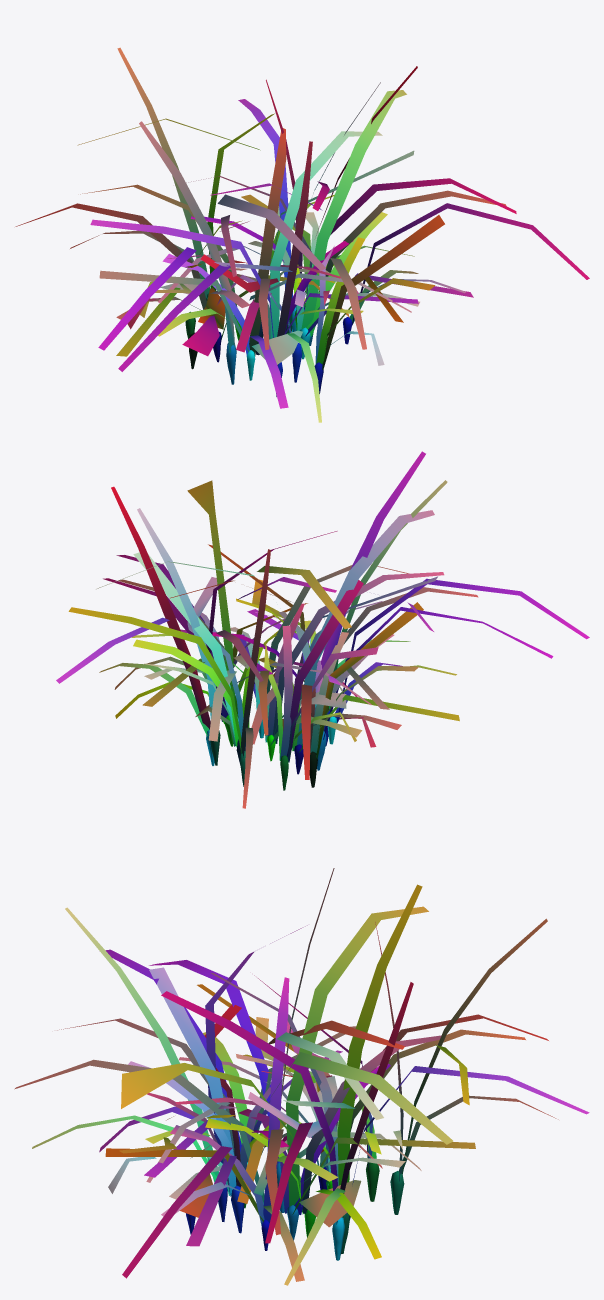
Rendered from Ribbon_Grass_tbdpec3r_High_tbdpec3r_VarC_LOD1.glb.
The picture shows the model from 3 angles, top to bottom: view 1: azimuth 30°, elevation 25°; view 2: azimuth 150°, elevation 25°; view 3: azimuth 270°, elevation 25°; orthographic projection. The views are drawn at different scales.
Parts seen in each view (by area): view 1: _901d_VarC_LOD2; view 2: _901d_VarC_LOD2; view 3: _901d_VarC_LOD2.
Part boxes in pixels (bbox=[...]): _901d_VarC_LOD2: bbox=[15, 47, 589, 422]; _901d_VarC_LOD2: bbox=[56, 451, 589, 808]; _901d_VarC_LOD2: bbox=[14, 868, 589, 1285].
Bounding box in the file's own units: 0.605 × 0.3733 × 0.5346.
